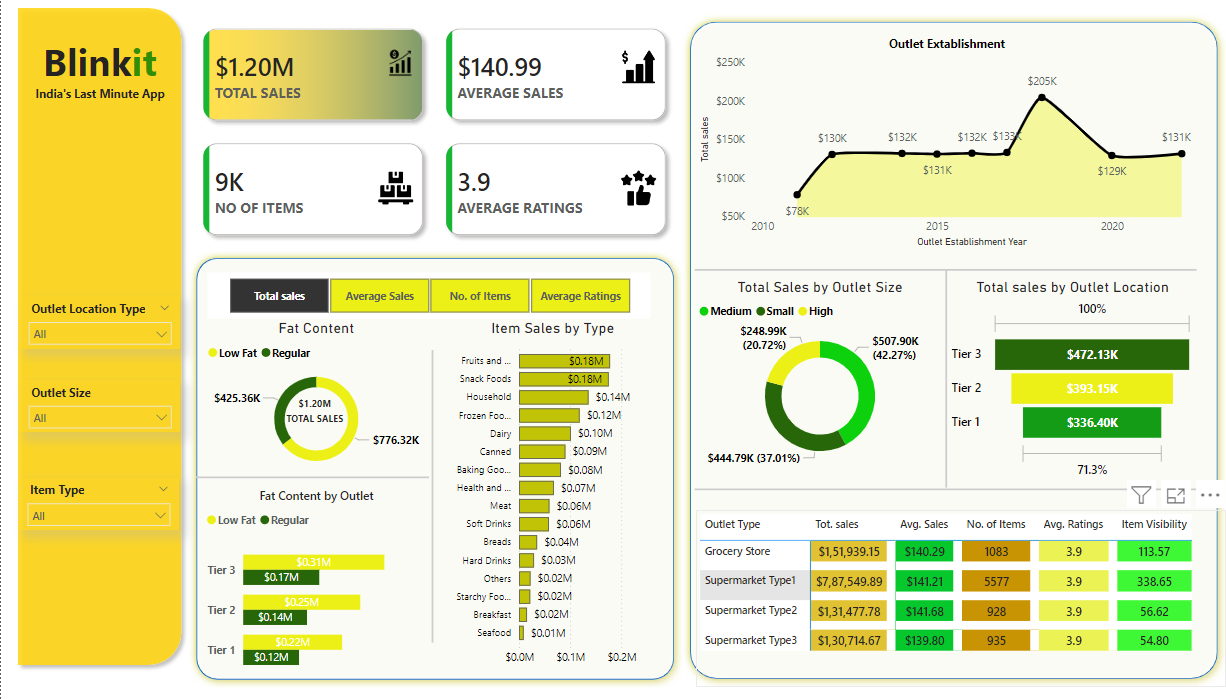

This screenshot's page, from the dashboard's own definition file:
{"tool":"powerbi","page":{"name":"Blinkit","canvas":[1400,800],"ordinal":0},"visuals":[{"type":"shape","box":[9.5,0,205.2,769],"z":0},{"type":"textbox","box":[21,36,183.1,96.1],"z":1000},{"type":"cardVisual","fields":{"Data":["Sheet1.Total sales","Sheet1.Average Sales","Sheet1.No. of Items","Sheet1.Average Ratings"]},"box":[214.7,16.3,563.9,270.4],"z":2000},{"type":"shape","box":[214.7,285.3,563.9,500],"z":3000},{"type":"donutChart","title":"Fat Content","fields":{"Y":["Sheet1.Total sales"],"Category":["Sheet1.Item Fat Content"]},"box":[231,364.1,258.2,182.1],"z":4000},{"type":"slicer","fields":{"Values":["Metrics.Metrics"]},"box":[235.1,311.1,506.8,53],"z":5000},{"type":"textbox","box":[320.7,445.7,77.4,58.4],"z":6000},{"type":"clusteredBarChart","title":"Fat Content by Outlet","fields":{"Y":["Sheet1.Total sales"],"Series":["Sheet1.Item Fat Content"],"Category":["Sheet1.Outlet Location Type"]},"box":[229.6,557.1,260.9,228.3],"z":7000},{"type":"shape","box":[222.8,432.1,266.3,228.3],"z":8000},{"type":"shape","box":[360.1,399.5,266.3,334.2],"z":9000},{"type":"barChart","title":"Item Sales by Type","fields":{"Y":["Sheet1.Total sales"],"Category":["Sheet1.Item Type"]},"box":[504.1,364.1,252.7,404.9],"z":10000},{"type":"shape","box":[778.5,16.3,620.9,769],"z":11000},{"type":"lineChart","title":"Outlet Extablishment","fields":{"Category":["Sheet1.Outlet Establishment Year"],"Y":["Sheet1.Total sales"]},"box":[794.8,39.4,573.4,247.3],"z":12000},{"type":"donutChart","title":"Total Sales by Outlet Size","fields":{"Y":["Sheet1.Total sales"],"Category":["Sheet1.Outlet Size"]},"box":[793.5,316.6,286.7,224.2],"z":13000},{"type":"shape","box":[947,308.4,266.3,248.6],"z":14000},{"type":"funnel","title":"Total sales by Outlet Location","fields":{"Y":["Sheet1.Total sales"],"Category":["Sheet1.Outlet Location Type"]},"box":[1081.5,316.6,286.7,235.1],"z":15000},{"type":"shape","box":[793.5,194.3,573.4,228.3],"z":16000},{"type":"shape","box":[793.5,475.5,573.4,167.1],"z":17000},{"type":"pivotTable","fields":{"Rows":["Sheet1.Outlet Type"],"Values":["Sheet1.Total sales","Sheet1.Average Sales","Sheet1.No. of Items","Sheet1.Average Ratings","Sum(Sheet1.Item Visibility)"]},"box":[794.8,582.9,604.6,202.4],"z":18000},{"type":"slicer","fields":{"Values":["Sheet1.Outlet Location Type"]},"box":[21.7,338.3,183.4,59.8],"z":20000},{"type":"slicer","fields":{"Values":["Sheet1.Outlet Size"]},"box":[21.7,434.8,183.4,59.8],"z":21000},{"type":"slicer","fields":{"Values":["Sheet1.Item Type"]},"box":[20.4,546.2,183.4,59.8],"z":22000}]}

Visuals, with their boxes in screenshot pixels (x1, y1, x2, y2), scaled from the page's 1400x800 canvas onto the 1226x699 screenshot:
shape: {"left": 8, "top": 0, "right": 188, "bottom": 672}
textbox: {"left": 18, "top": 31, "right": 179, "bottom": 115}
cardVisual - Sheet1.Total sales x Sheet1.Average Sales: {"left": 188, "top": 14, "right": 682, "bottom": 251}
shape: {"left": 188, "top": 249, "right": 682, "bottom": 686}
"Fat Content" donutChart: {"left": 202, "top": 318, "right": 428, "bottom": 477}
slicer - Metrics.Metrics: {"left": 206, "top": 272, "right": 650, "bottom": 318}
textbox: {"left": 281, "top": 389, "right": 349, "bottom": 440}
"Fat Content by Outlet" clusteredBarChart: {"left": 201, "top": 487, "right": 430, "bottom": 686}
shape: {"left": 195, "top": 378, "right": 428, "bottom": 577}
shape: {"left": 315, "top": 349, "right": 549, "bottom": 641}
"Item Sales by Type" barChart: {"left": 441, "top": 318, "right": 663, "bottom": 672}
shape: {"left": 682, "top": 14, "right": 1225, "bottom": 686}
"Outlet Extablishment" lineChart: {"left": 696, "top": 34, "right": 1198, "bottom": 251}
"Total Sales by Outlet Size" donutChart: {"left": 695, "top": 277, "right": 946, "bottom": 473}
shape: {"left": 829, "top": 269, "right": 1063, "bottom": 487}
"Total sales by Outlet Location" funnel: {"left": 947, "top": 277, "right": 1198, "bottom": 482}
shape: {"left": 695, "top": 170, "right": 1197, "bottom": 369}
shape: {"left": 695, "top": 415, "right": 1197, "bottom": 561}
pivotTable - Sheet1.Outlet Type x Sheet1.Total sales: {"left": 696, "top": 509, "right": 1225, "bottom": 686}
slicer - Sheet1.Outlet Location Type: {"left": 19, "top": 296, "right": 180, "bottom": 348}
slicer - Sheet1.Outlet Size: {"left": 19, "top": 380, "right": 180, "bottom": 432}
slicer - Sheet1.Item Type: {"left": 18, "top": 477, "right": 178, "bottom": 529}
